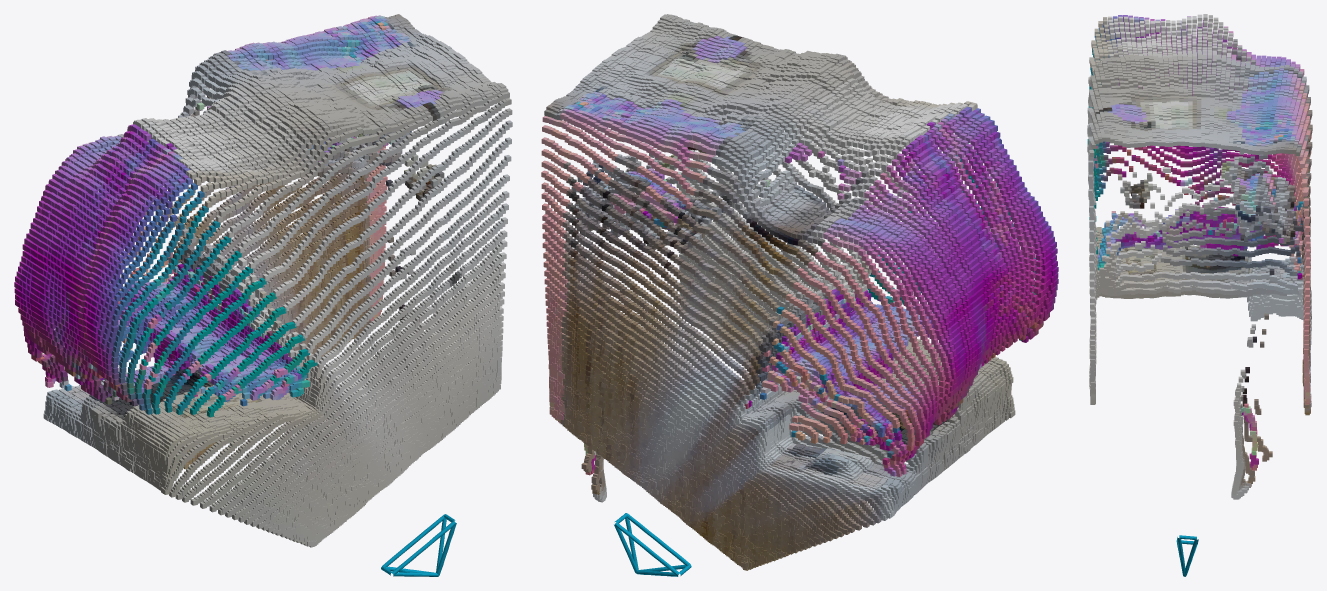
The model's file is pred_0-compressed.glb.
3 renders of one model, left to right at view 1: azimuth 30°, elevation 25°; view 2: azimuth 150°, elevation 25°; view 3: azimuth 270°, elevation 25°, orthographic. The views are drawn at different scales.
Size of the model in its own units: 4.54 by 5.6 by 2.53.
